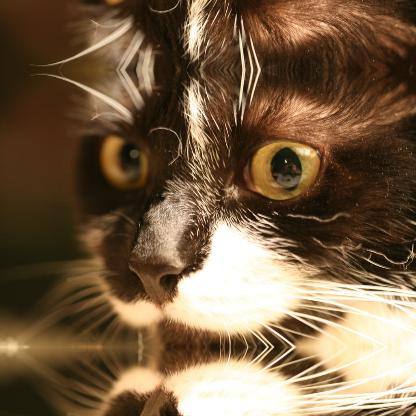Cat: (17, 69, 415, 346), (17, 0, 416, 70), (17, 346, 416, 415)
